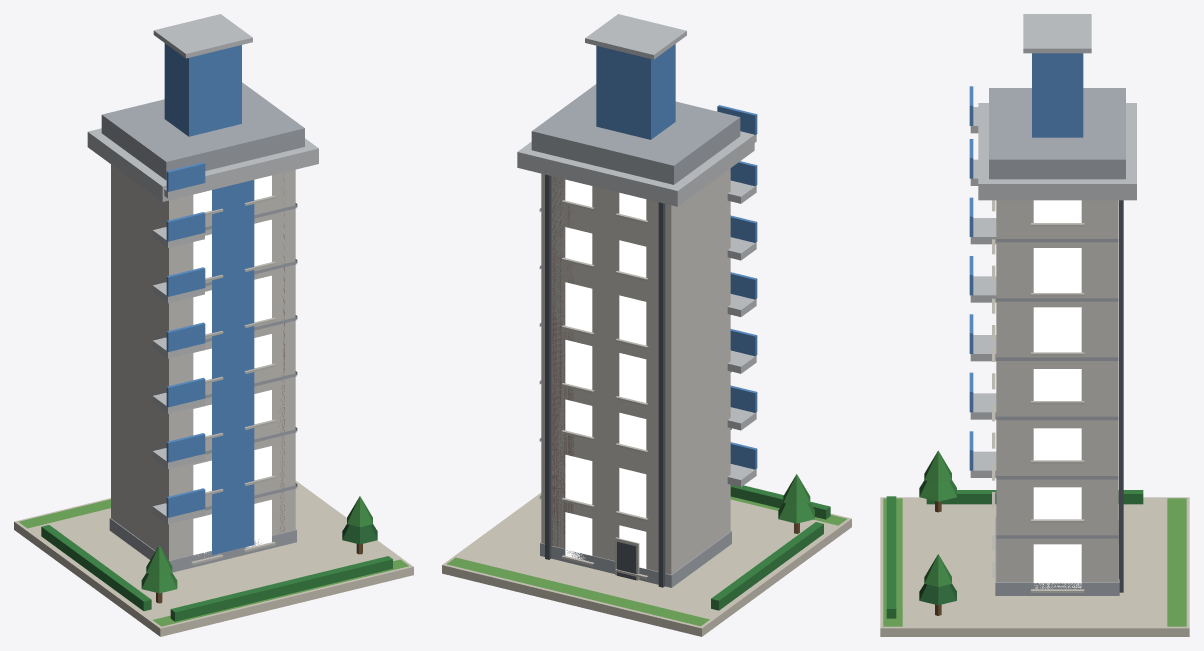
3 views of the same model, side by side, from view 1: azimuth 30°, elevation 25°; view 2: azimuth 150°, elevation 25°; view 3: azimuth 270°, elevation 25° (orthographic). The views are drawn at different scales.
Visible parts, largest first — view 1: b10; view 2: b10; view 3: b10.
Boxes of the visible parts, x1=… form: b10: x1=14, y1=14, x2=413, y2=636; b10: x1=442, y1=14, x2=851, y2=636; b10: x1=880, y1=14, x2=1189, y2=636.
Size of the model in its own units: 0.96 by 1.85 by 0.96.
